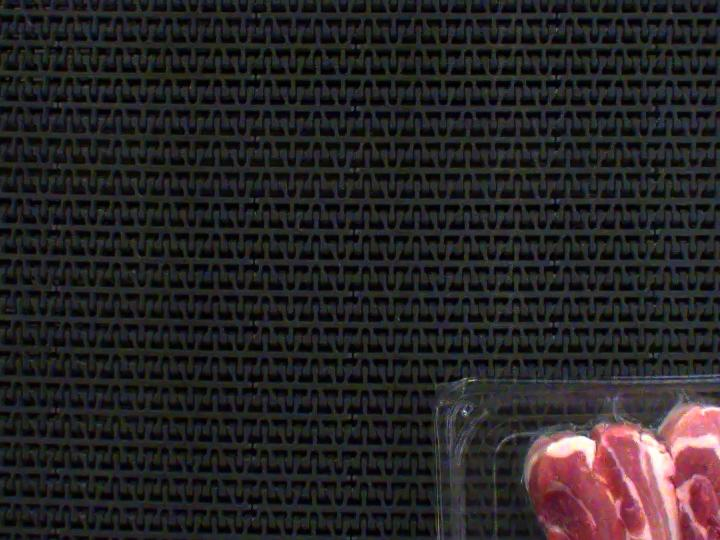packaging-error: (581, 381, 649, 429), (672, 378, 720, 418)
unsealed: (509, 406, 596, 483)
